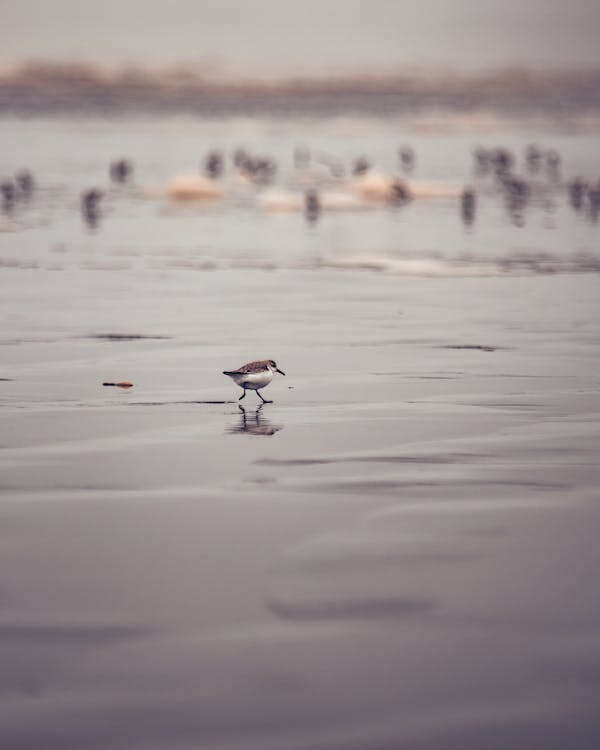Walking: (213, 351, 302, 429)
